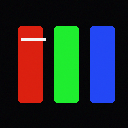3 line_h: (21, 38, 45, 40)
